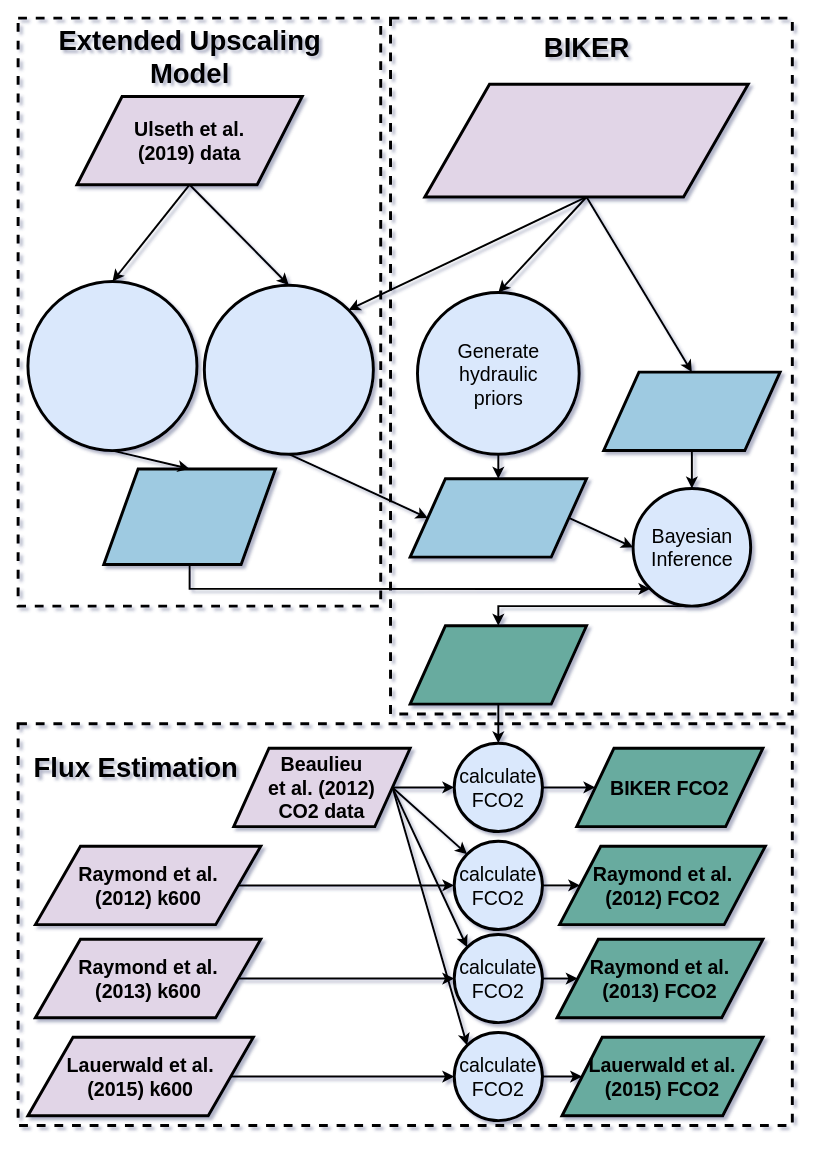
Some shapes in this 816 by 1150 pixel diagram are drawn without their labels. Each missing label, with the box of its shape:
Bayesian priors: (408, 477, 588, 558)
Bayesian sampling model: (102, 467, 276, 565)
Generate k600 prior: (202, 283, 374, 455)
Probability distribution of k600: (408, 624, 588, 705)
RS data: (602, 370, 781, 451)
SWOT data (water surface width, slope, change in channel area): (423, 82, 749, 198)
Upscale k600: (26, 280, 198, 452)
